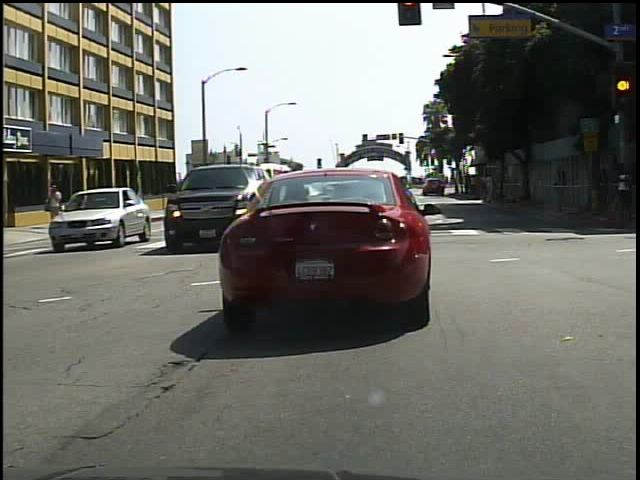person: (48, 181, 68, 221)
